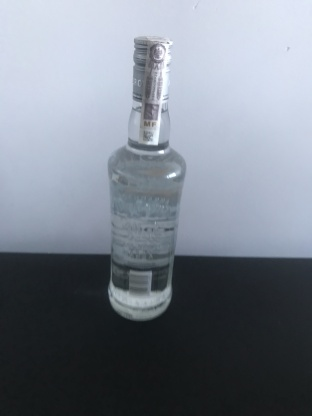nakretka: (130, 31, 175, 105)
